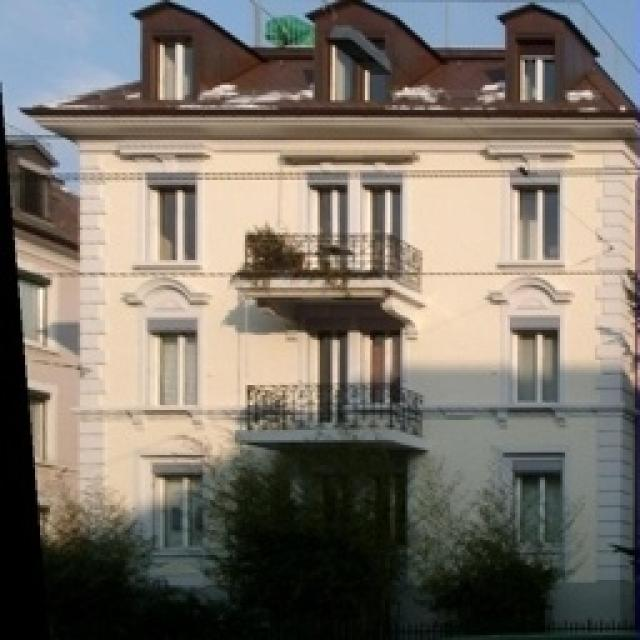building: (60, 12, 640, 640)
